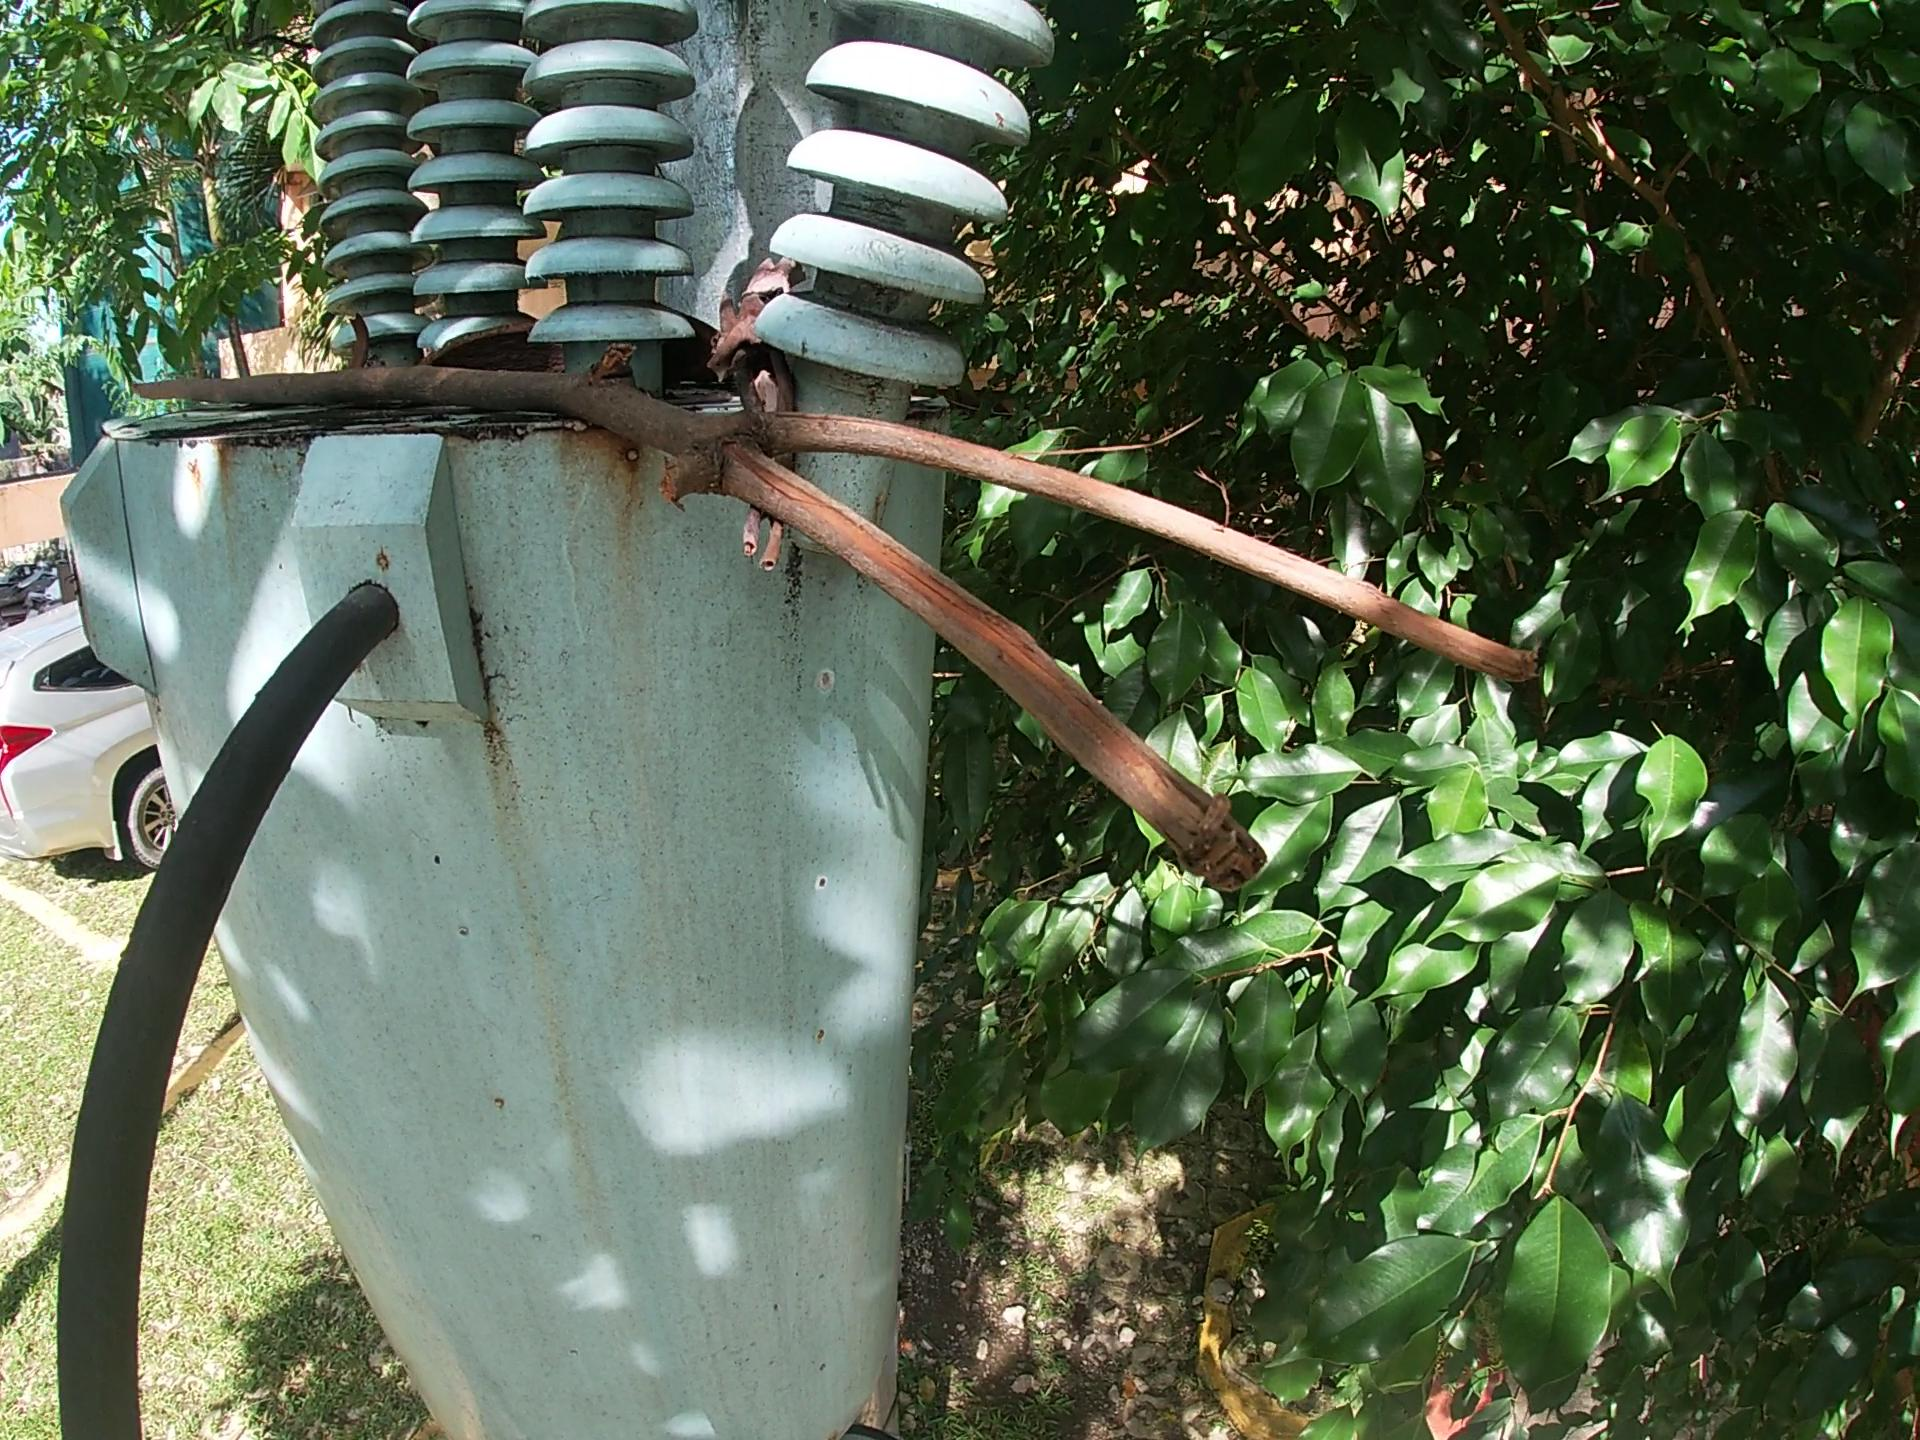mahogany fruit: (414, 313, 721, 386), (342, 310, 373, 374)
tree branch: (113, 333, 1556, 903), (708, 253, 810, 579)
